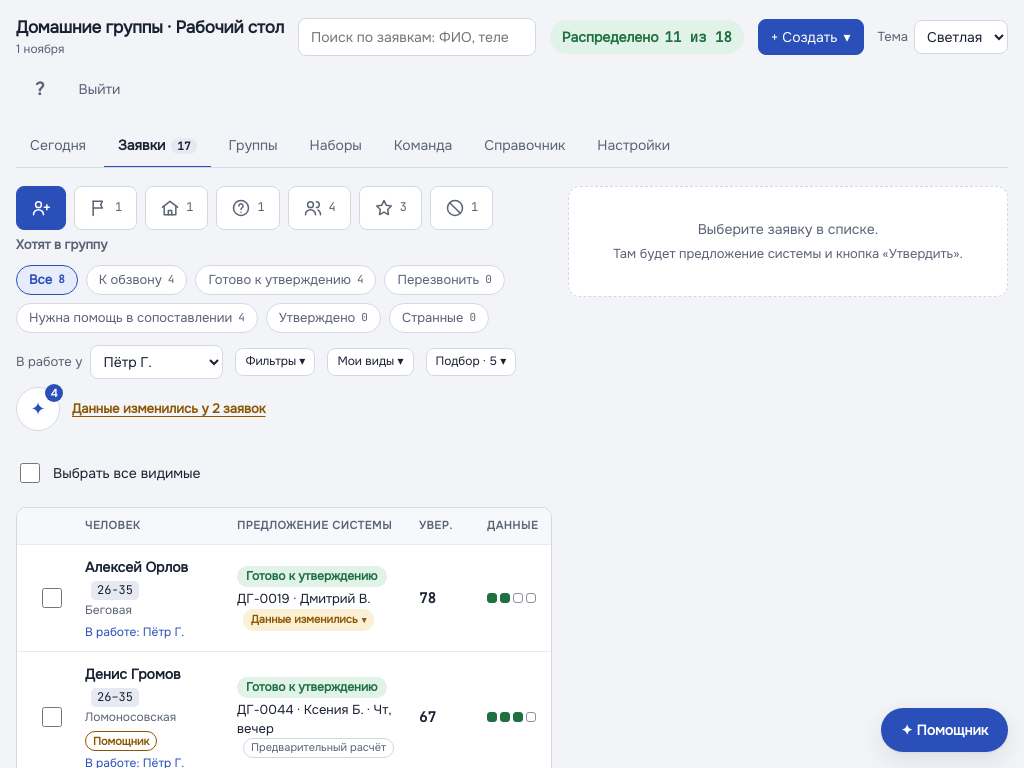
Test: «Заявки»: отбор «В работе у» (экран) › отбор действует вместе с поиском и чипом
This screenshot has width=1024, height=768.
Click the button "Нужна помощь в сопоставлении 4".
click(137, 318)  # box [16,303,258,333]
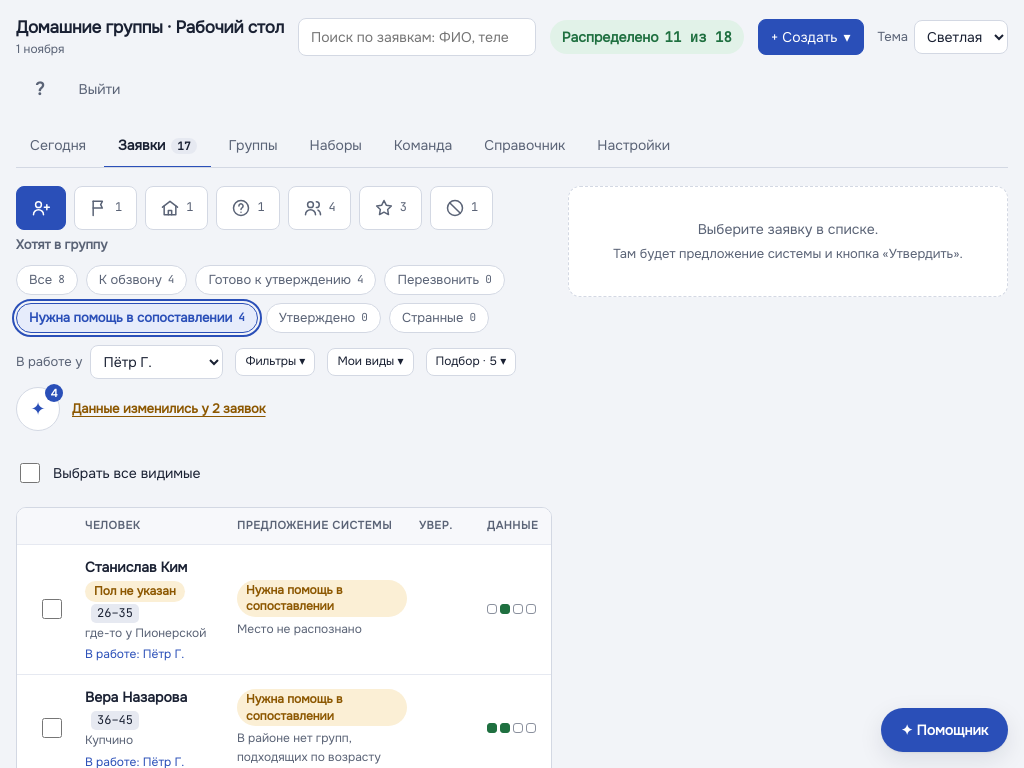
Now the number of list items is 4
Type "Ким" into the search field labelled "Поиск по заявкам".
click(417, 37); type("Ким")  # box [298,18,536,56]
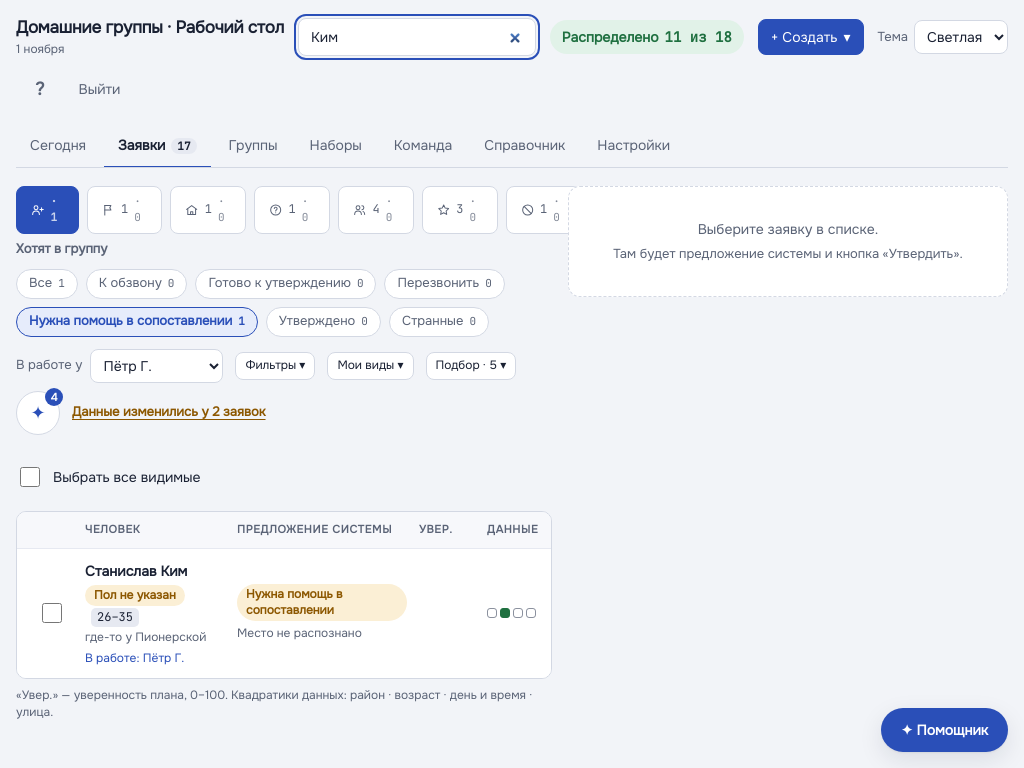
Now the number of list items is 1, box [17,548,551,678]
